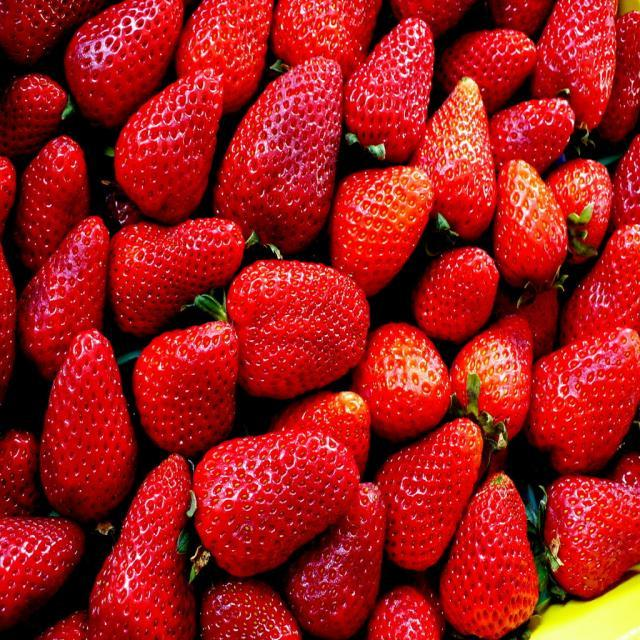Strawberry: (0, 0, 639, 639), (408, 237, 504, 343)
